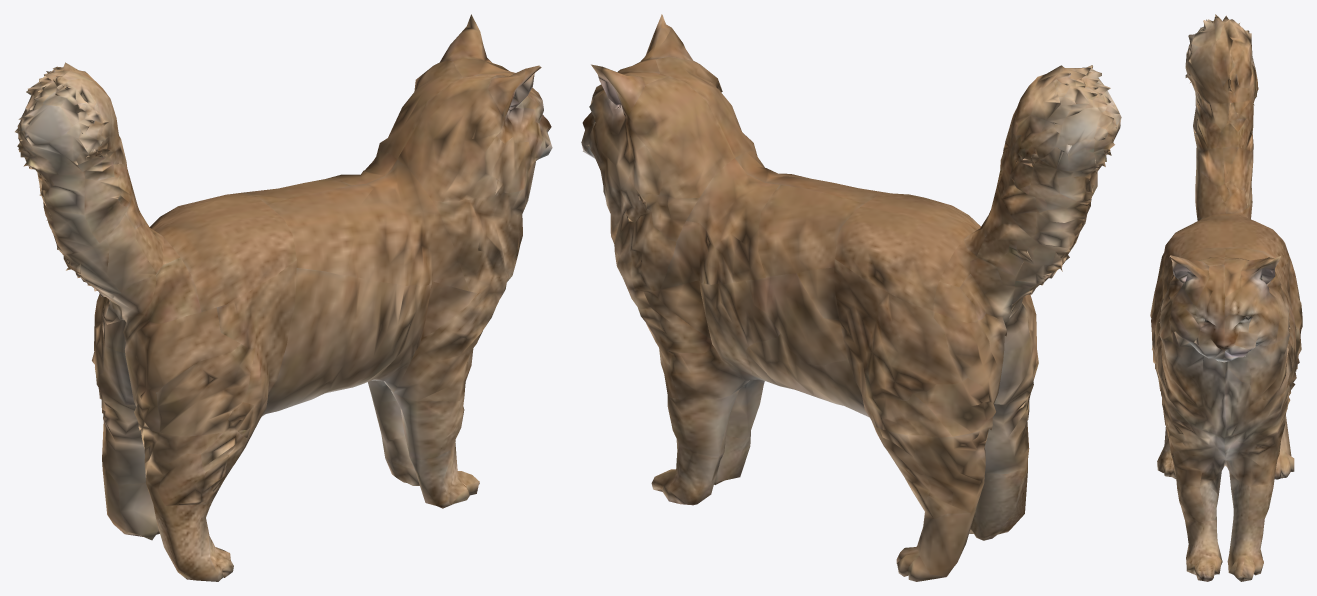
File: SNACKSCAT-lo.glb
The picture shows the model from 3 angles, left to right: view 1: azimuth 30°, elevation 25°; view 2: azimuth 150°, elevation 25°; view 3: azimuth 270°, elevation 25°; orthographic projection. The views are drawn at different scales.
Parts seen in each view (by area): view 1: tripo_node_a05ec790-91dc-40cb-a248-bd2637aab71f; view 2: tripo_node_a05ec790-91dc-40cb-a248-bd2637aab71f; view 3: tripo_node_a05ec790-91dc-40cb-a248-bd2637aab71f.
Part boxes in pixels (x1,y1,x2,y2): tripo_node_a05ec790-91dc-40cb-a248-bd2637aab71f: (15, 14, 552, 581); tripo_node_a05ec790-91dc-40cb-a248-bd2637aab71f: (581, 14, 1121, 581); tripo_node_a05ec790-91dc-40cb-a248-bd2637aab71f: (1150, 14, 1302, 581).
Size of the model in its own units: 1.08 by 0.9983 by 0.3355.
Materials: 1 (1 with a texture image).
